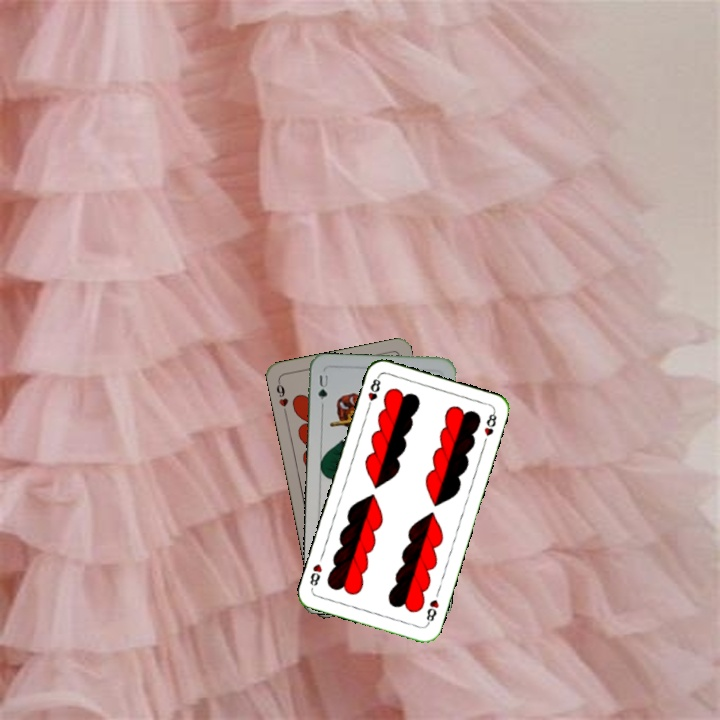GU: (314, 371, 330, 402)
H8: (363, 372, 383, 412), (422, 595, 441, 628)
H9: (272, 377, 291, 417)
